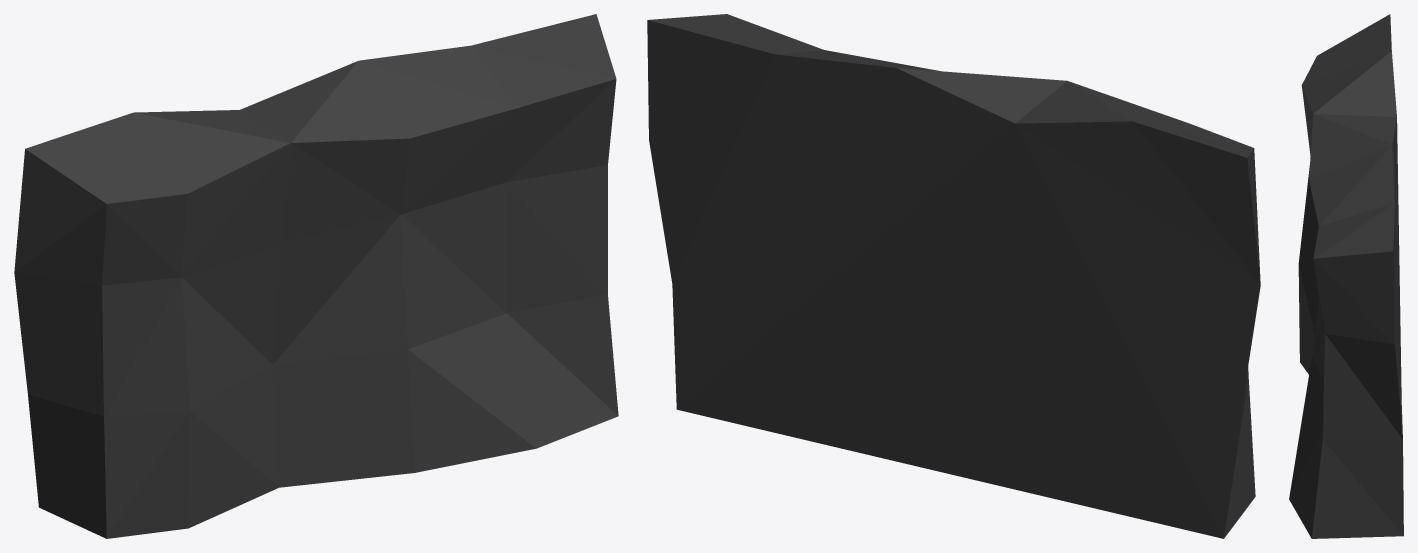
Rendered from Cliff_A.fbx.
3 renders of one model, left to right at view 1: azimuth 30°, elevation 25°; view 2: azimuth 150°, elevation 25°; view 3: azimuth 270°, elevation 25°, orthographic. The views are drawn at different scales.
Parts seen in each view (by area): view 1: Cliff A; view 2: Cliff A; view 3: Cliff A.
Part boxes in pixels (x1=…): Cliff A: x1=14, y1=14, x2=618, y2=538; Cliff A: x1=647, y1=14, x2=1260, y2=538; Cliff A: x1=1289, y1=14, x2=1403, y2=538.
Bounding box in the file's own units: 1379 × 846 × 283.
